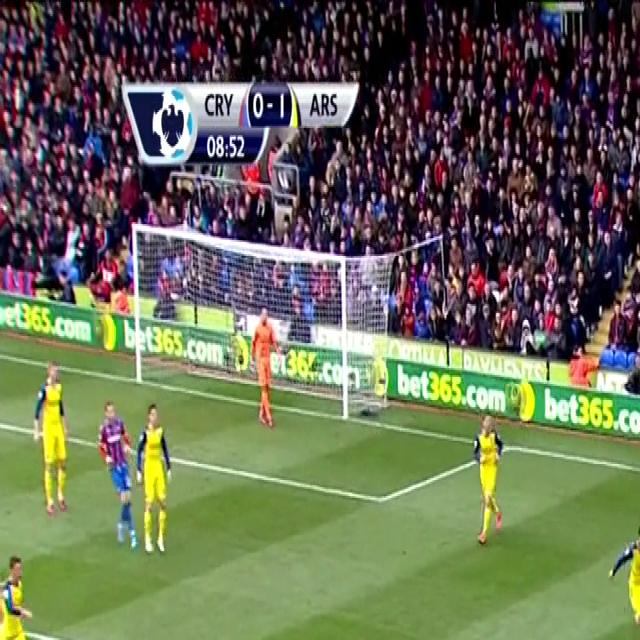goalkeeper: (243, 305, 288, 432)
soccer-player: (127, 401, 184, 564), (26, 354, 78, 517), (89, 398, 142, 553), (458, 405, 514, 549), (597, 515, 640, 640), (0, 554, 49, 640)
